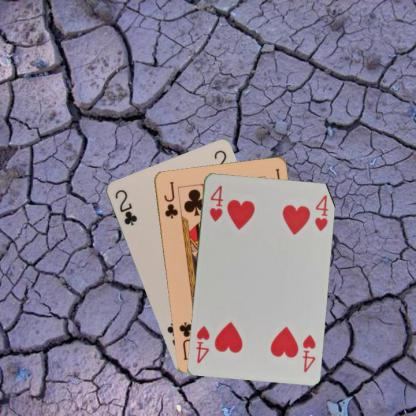2c: (112, 186, 138, 226)
4h: (206, 182, 224, 223), (299, 332, 317, 373)
Jc: (161, 178, 179, 220)
